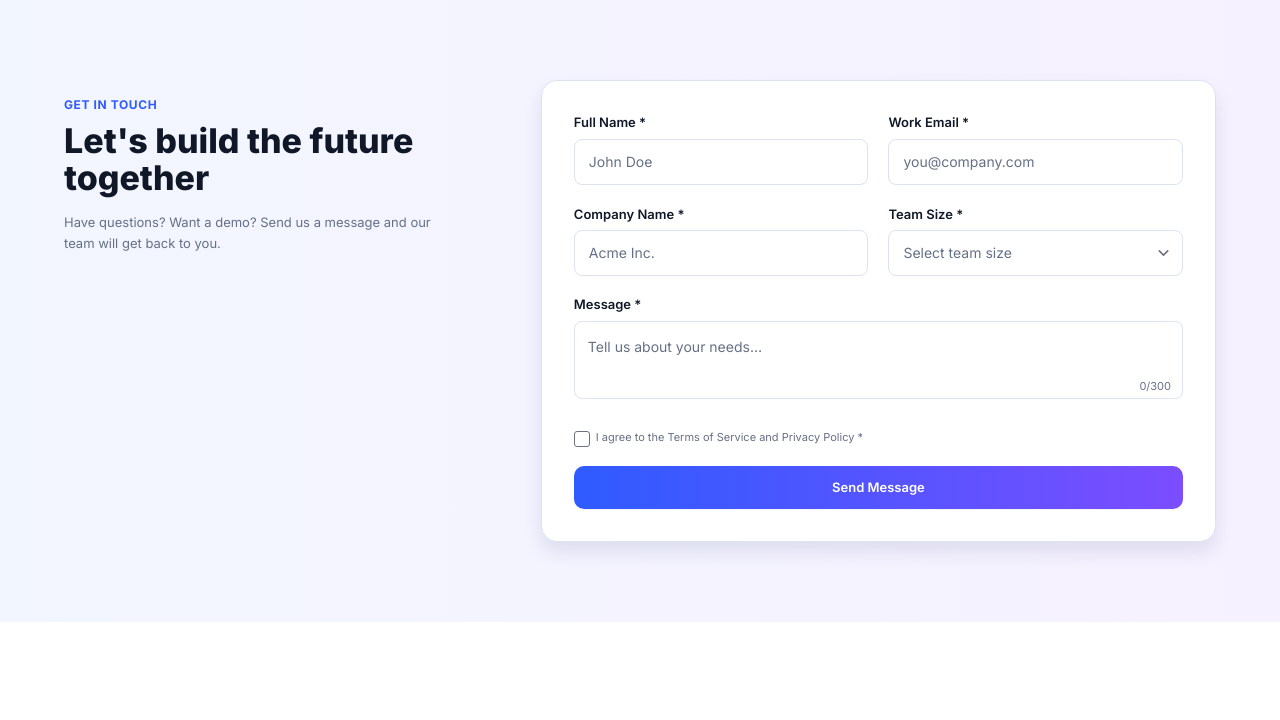
Test: Contact › validation › shows a clear message and a red border for every empty required field
Click the button "Send Message". click: x=878, y=487
box: [574,466,1183,509]
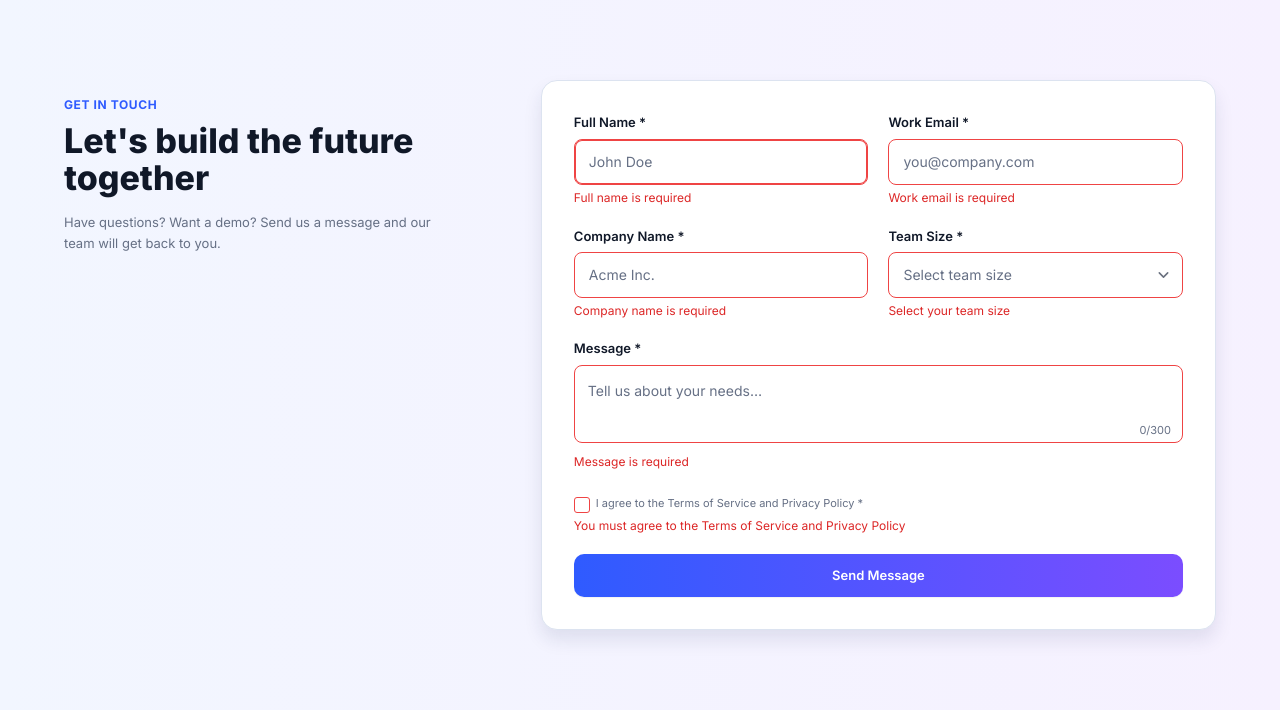
expect the text "Full name is required" is shown: met, box [574,190,691,204]
expect the text "Work email is required" is shown: met, box [888,190,1015,204]
expect the text "Company name is required" is shown: met, box [574,303,726,318]
